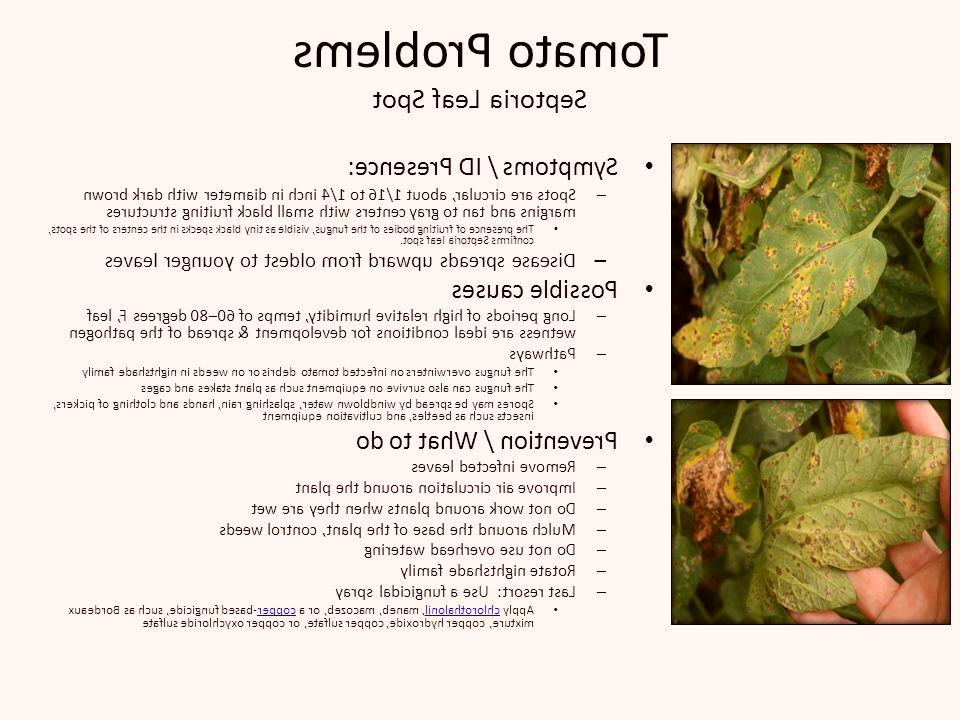Tomato Septoria leaf spot: (674, 186, 891, 370), (754, 431, 946, 613), (676, 410, 770, 552)
